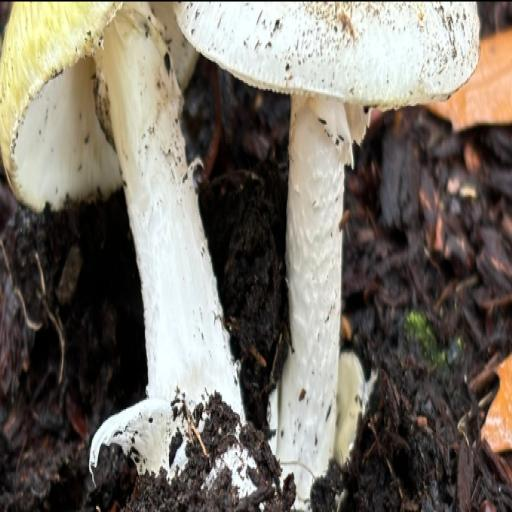Death Cap: (0, 0, 481, 512)
